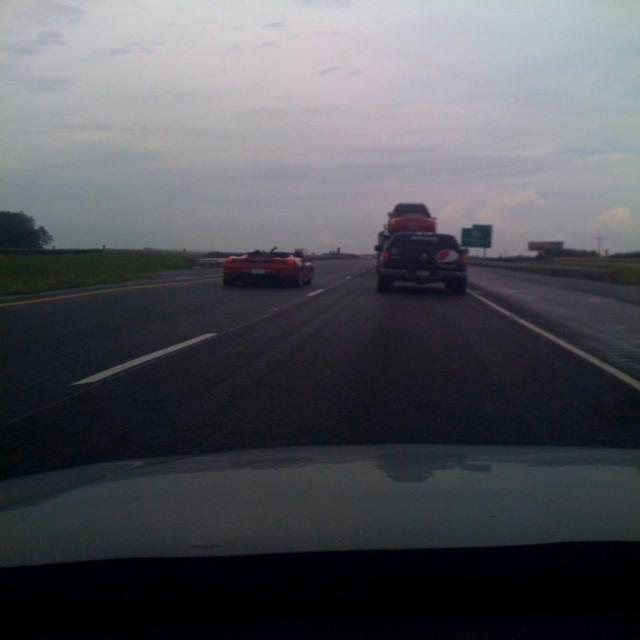car: (373, 231, 469, 296), (221, 255, 316, 289)
